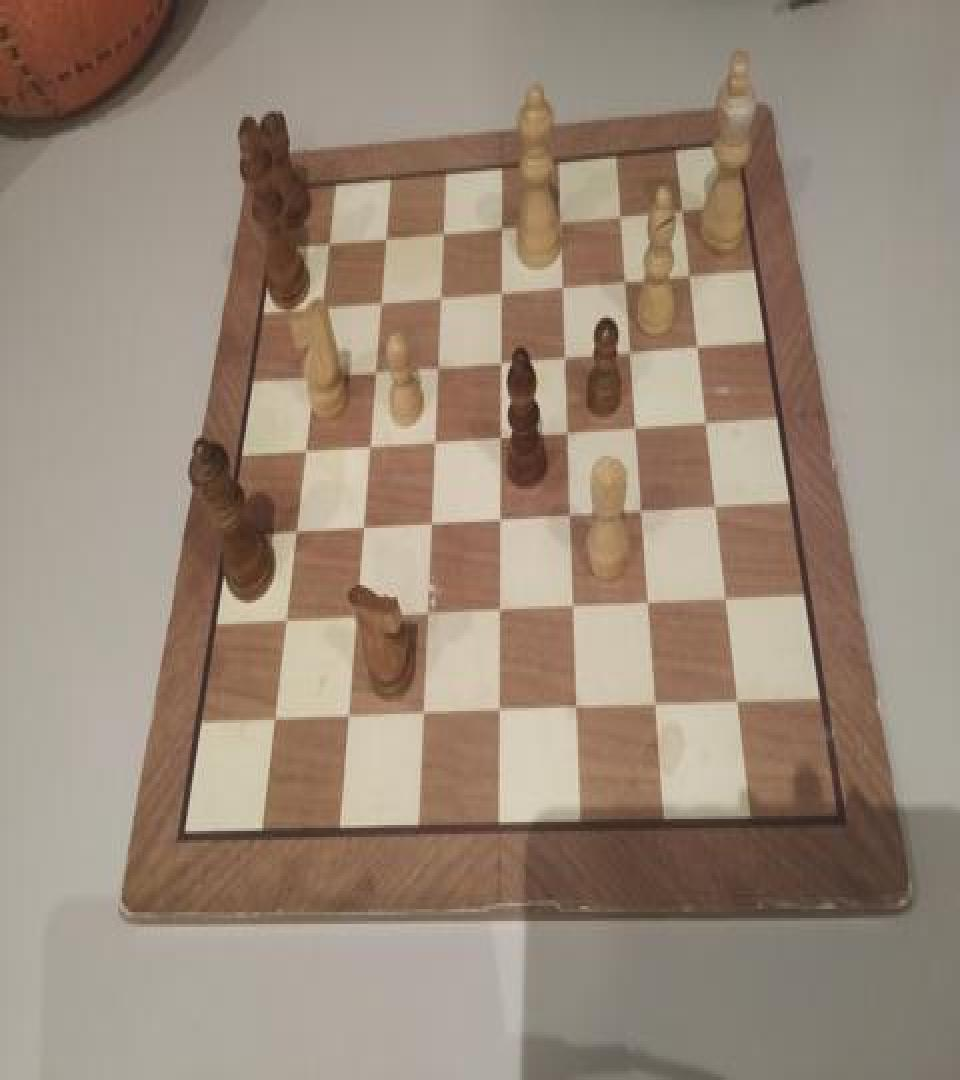xcorner: (635, 499, 655, 530), (432, 280, 452, 311), (319, 223, 339, 254), (264, 706, 284, 736), (339, 705, 359, 735), (415, 702, 435, 732), (492, 699, 512, 729), (649, 694, 669, 724), (728, 692, 748, 722), (347, 604, 367, 634), (492, 598, 512, 628), (641, 592, 661, 622), (717, 590, 737, 620), (286, 516, 306, 546), (354, 513, 374, 543), (423, 510, 443, 540), (493, 507, 513, 537), (563, 504, 583, 534), (707, 496, 727, 526), (295, 434, 315, 464), (360, 430, 380, 460), (426, 426, 446, 456), (493, 423, 513, 453), (560, 420, 580, 450), (629, 416, 649, 446), (697, 412, 717, 442), (304, 358, 324, 388), (366, 354, 386, 384), (429, 350, 449, 380), (493, 346, 513, 376), (558, 342, 578, 372), (623, 339, 643, 369), (689, 334, 709, 364), (311, 288, 331, 318), (372, 284, 392, 314), (493, 276, 513, 306), (555, 272, 575, 302), (618, 268, 638, 298), (681, 264, 701, 294), (376, 219, 396, 249), (435, 216, 455, 246), (494, 212, 514, 242), (553, 207, 573, 237), (613, 202, 633, 232), (674, 198, 694, 228), (570, 698, 590, 727), (276, 608, 296, 637), (419, 602, 439, 631), (566, 596, 586, 625)
